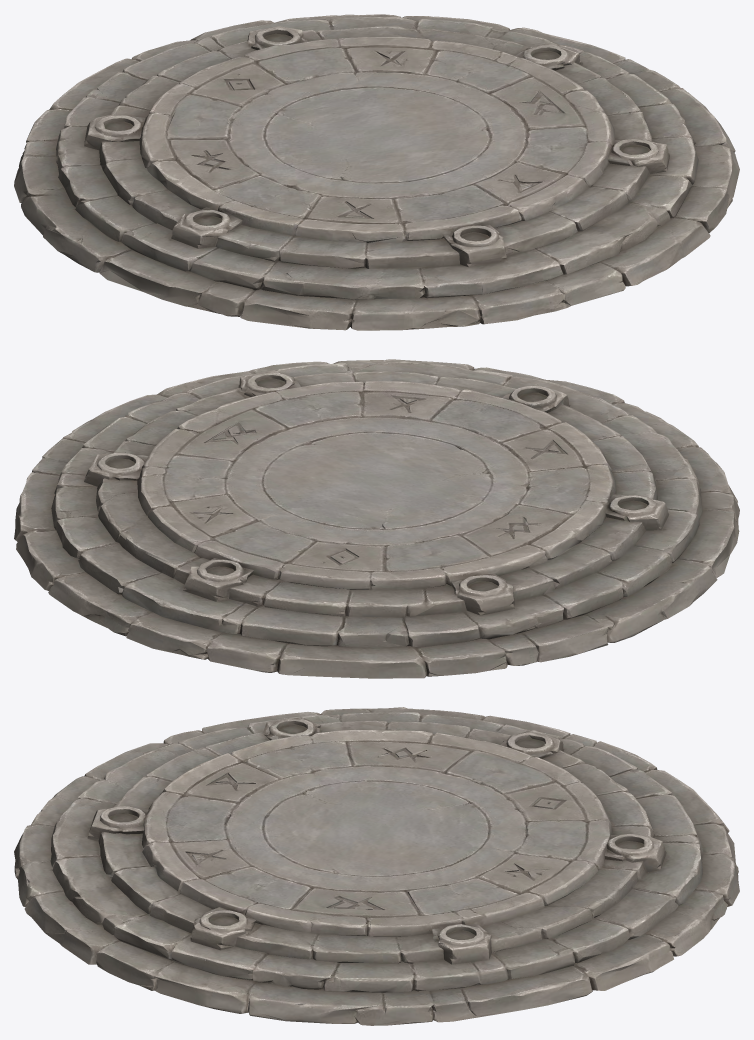
File: arrival_altar.glb
3 renders of one model, top to bottom at view 1: azimuth 30°, elevation 25°; view 2: azimuth 150°, elevation 25°; view 3: azimuth 270°, elevation 25°, orthographic.
Visible parts, largest first — view 1: body; view 2: body; view 3: body.
Part boxes in pixels (x1,y1,x2,y2): body: (14,14,739,330); body: (14,359,739,678); body: (14,707,739,1025).
Size of the model in its own units: 6.6 by 0.4495 by 6.6.
1 material, 1 textured.
